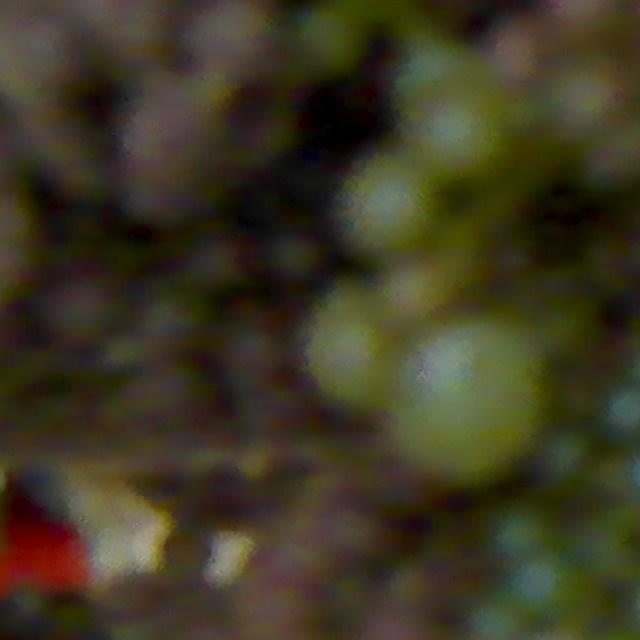SeaGrape: (300, 298, 396, 407), (340, 153, 438, 253), (415, 84, 512, 182), (538, 51, 631, 145), (192, 0, 276, 76), (506, 548, 587, 625), (393, 28, 470, 104), (45, 273, 117, 343), (295, 7, 365, 75), (216, 319, 284, 386), (385, 260, 450, 323), (489, 20, 545, 83), (186, 235, 247, 292), (269, 232, 320, 283), (603, 383, 640, 438)
